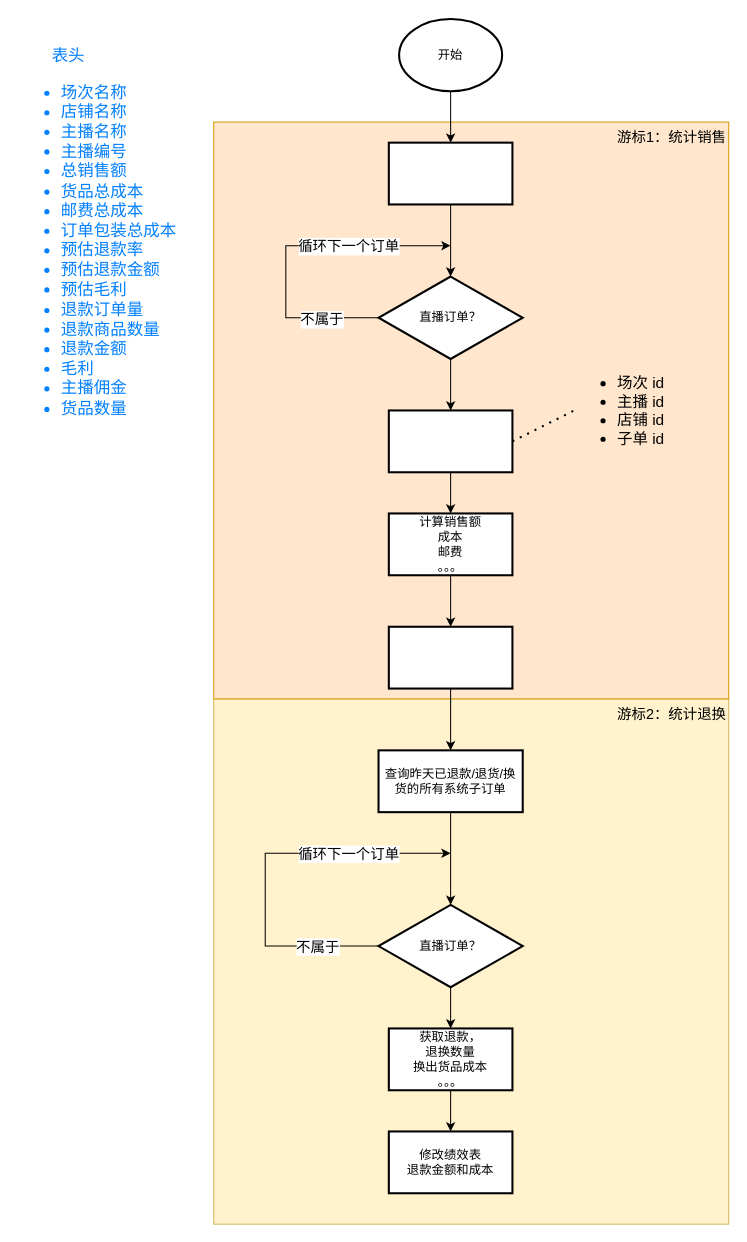
Some shapes in this 747 by 1242 pixel diagram are drawn without their labels. The box of each missing label's shape, as (x1, y1, x2, y2) in pixels:
修改绩效表 销售额，成本，货品数量: (387, 625, 513, 689)
查询昨天已出库 所有系统子订单: (387, 141, 513, 205)
获取绩效表 该订单信息: (387, 409, 513, 473)
